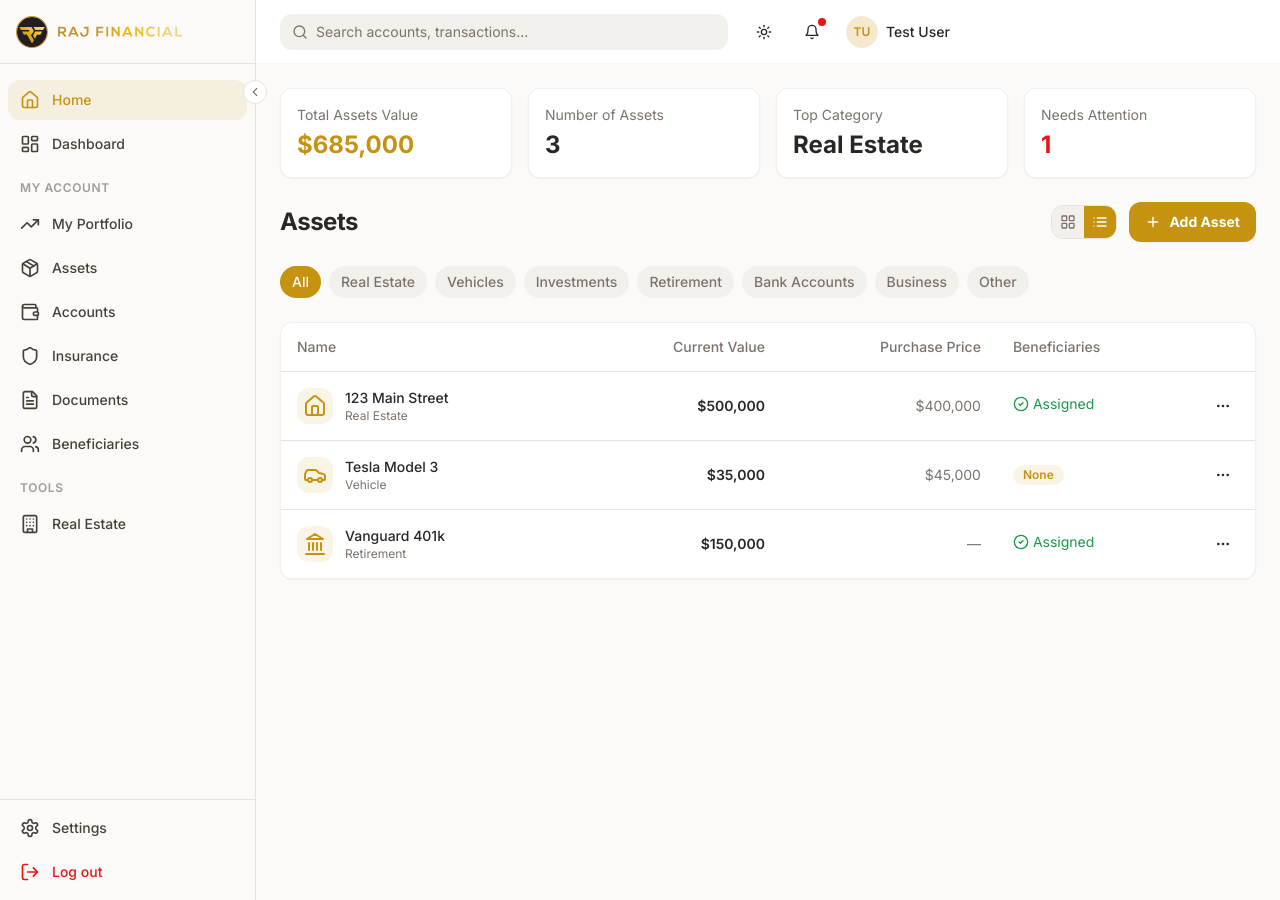
Assets Page — Delete Functionality › shows delete option in actions menu (table view)
This screenshot has width=1280, height=900.
Expected: the row "123 Main Street Real Estate $500,000 $400,000 Assigned" is shown, [281,371,1255,440]
Click the button named "More actions" in the row of "123 Main Street". click: (1223, 406)
box: [1207,390,1239,422]
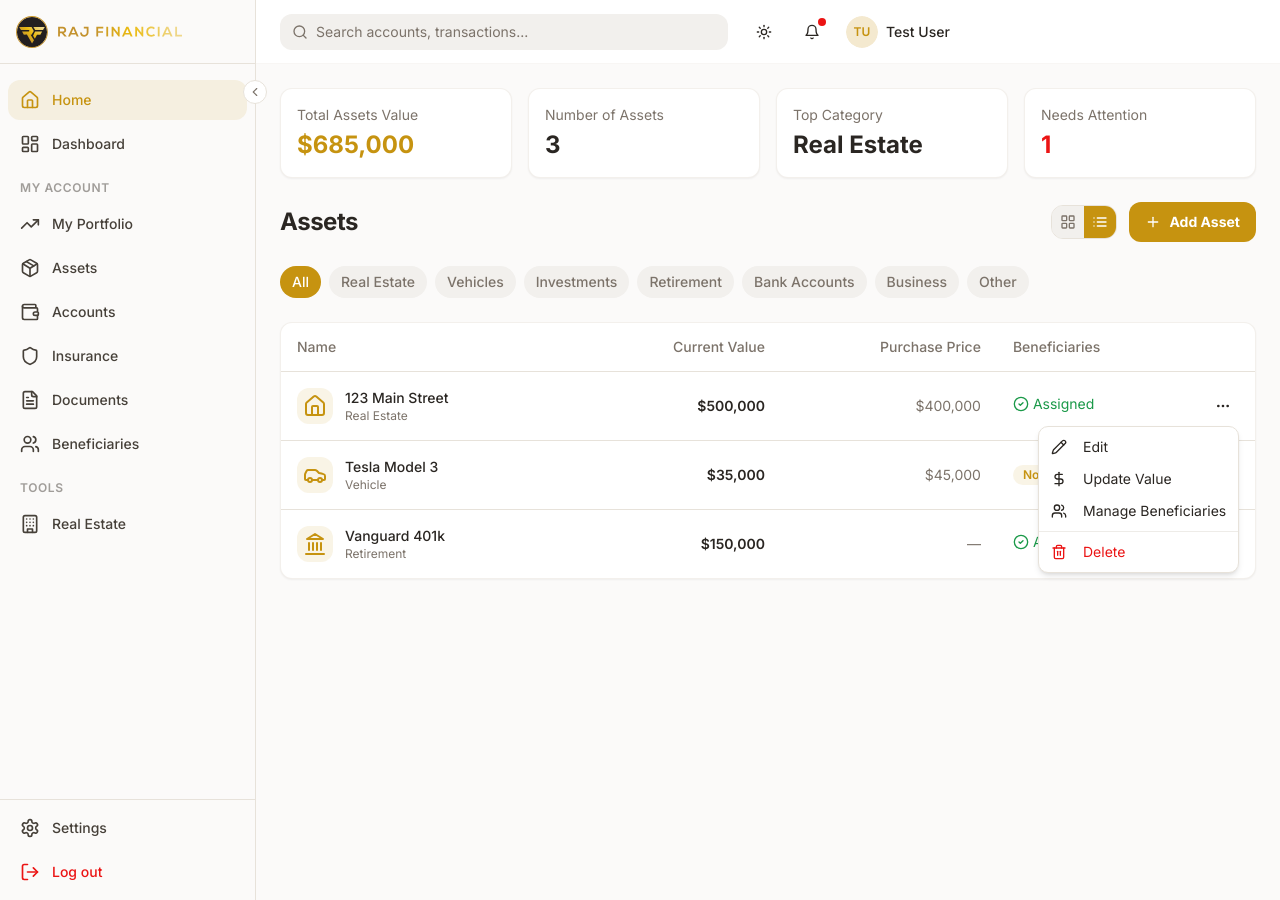
Result: the menu item "Delete" is shown at [1051,543,1125,560]
